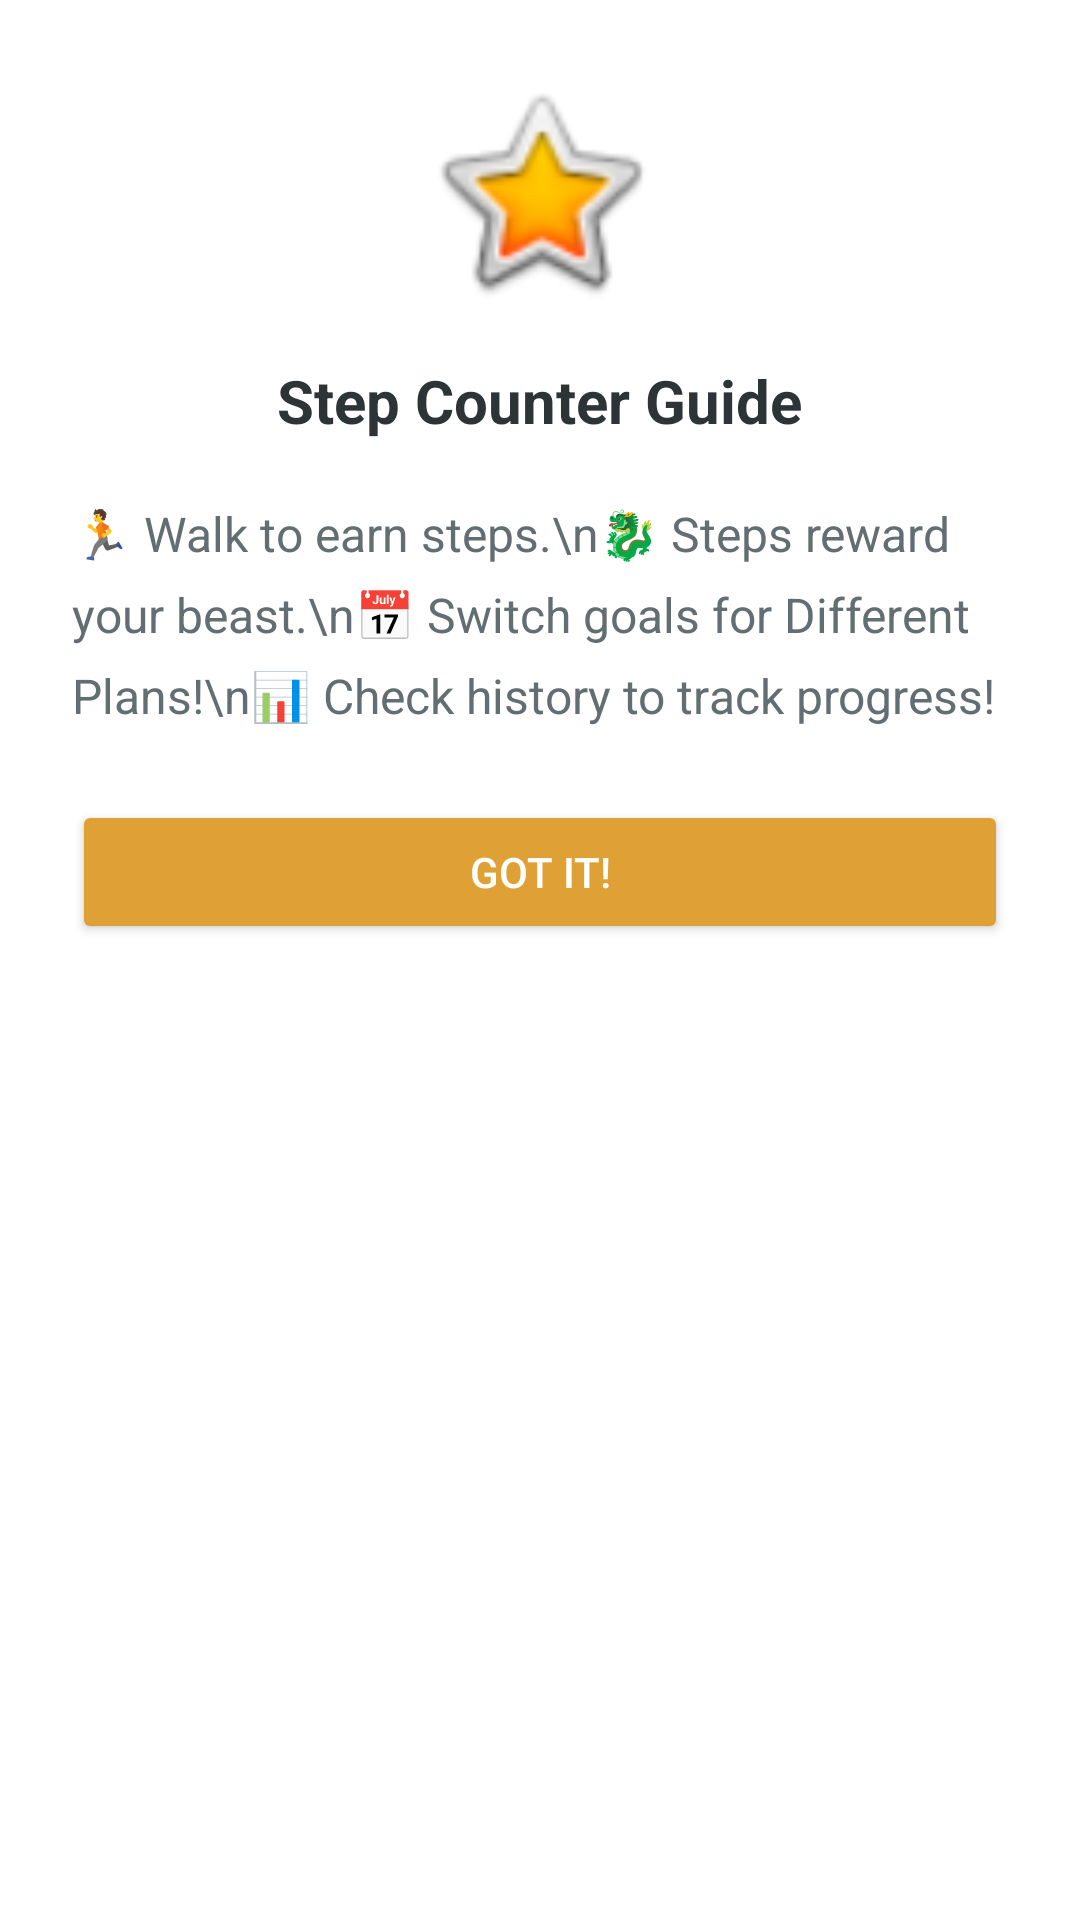

Icon bounding boxes for this 1080px×1920px phone screenshot, format box(x1, y1, x2, y2):
star on: box(442, 96, 642, 292)
